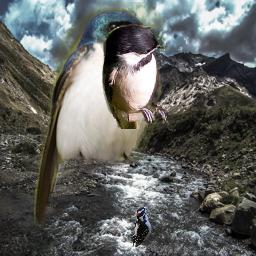Swallow: (34, 0, 164, 227), (100, 22, 172, 129)
Woodpecker: (133, 204, 156, 247)
